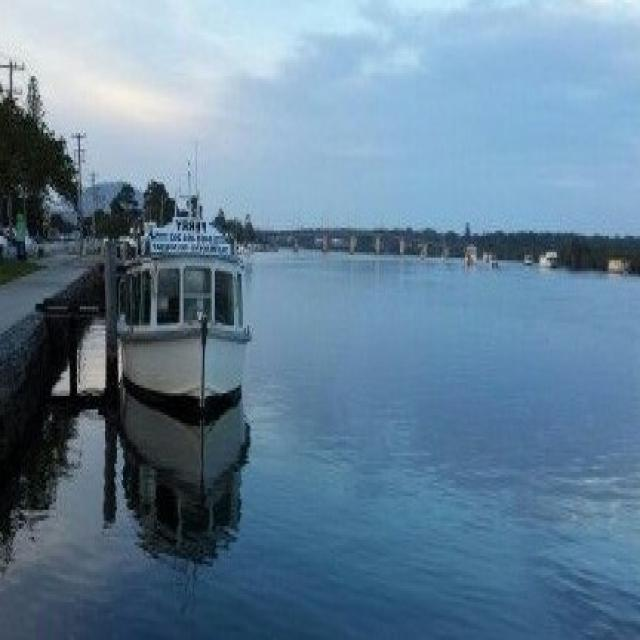houseboat: (116, 158, 260, 413)
